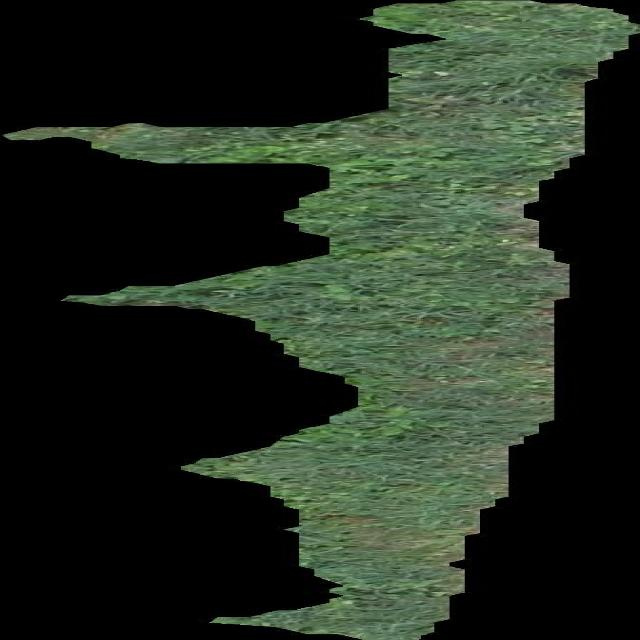Weed: (2, 0, 640, 640)
